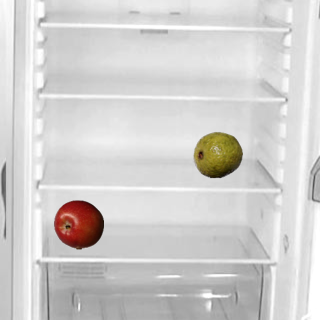Apple Braeburn: (53, 199, 103, 249)
Guava: (192, 129, 242, 179)
